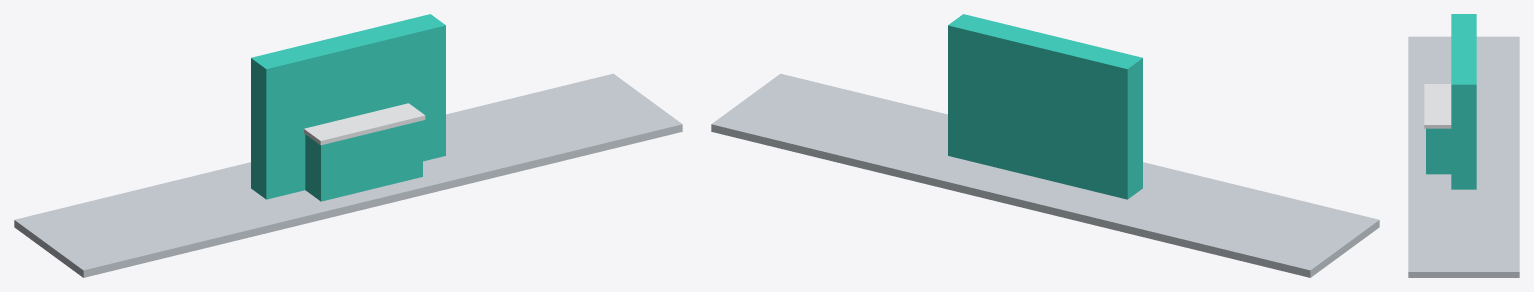
3 views of the same model, side by side, from view 1: azimuth 30°, elevation 25°; view 2: azimuth 150°, elevation 25°; view 3: azimuth 270°, elevation 25° (orthographic). The views are drawn at different scales.
Parts seen in each view (by area): view 1: Exhibition Booth Concept; view 2: Exhibition Booth Concept; view 3: Exhibition Booth Concept.
Boxes of the visible parts, <box> form: Exhibition Booth Concept: <box>14,14,682,277</box>; Exhibition Booth Concept: <box>711,14,1379,277</box>; Exhibition Booth Concept: <box>1408,14,1519,277</box>.
Size of the model in its own units: 10 by 2.2 by 2.
